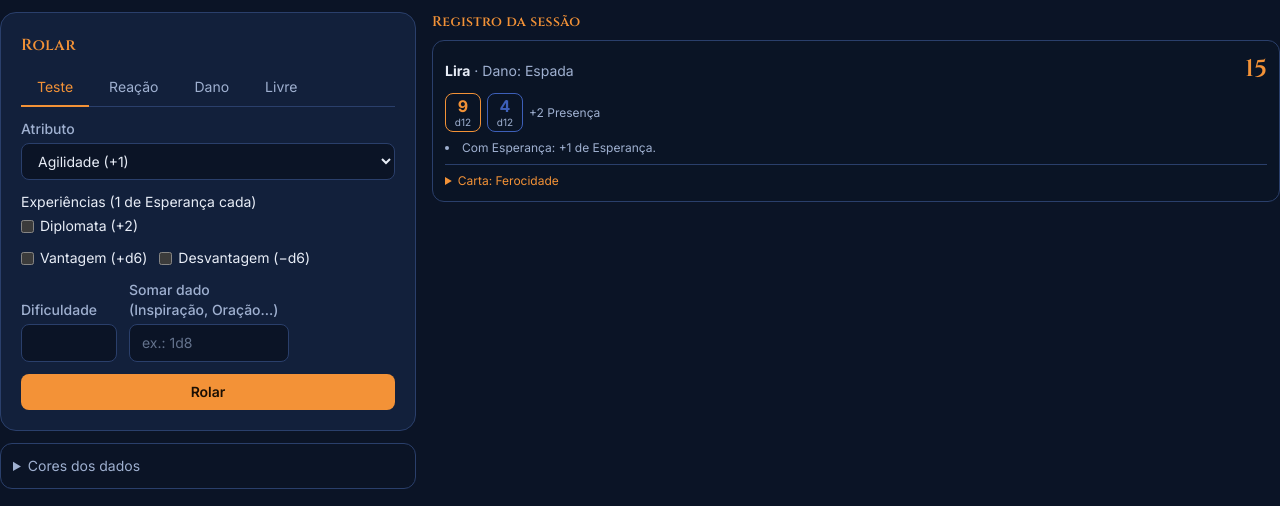
Test: Carta disparada pela rolagem › o registro oferece a carta e usa ligada àquela rolagem
This screenshot has width=1280, height=506.
Click the heading "Carta: Ferocidade". click: (508, 181)
box: [458,173,559,188]
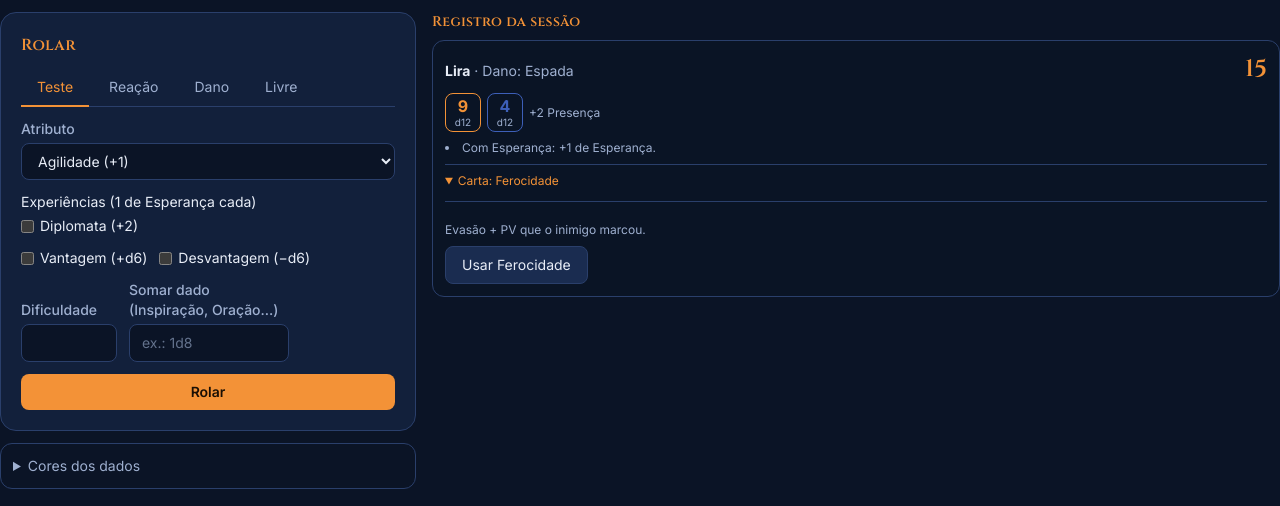
Click the button "Usar Ferocidade". click: (516, 265)
box: [445,246,588,284]
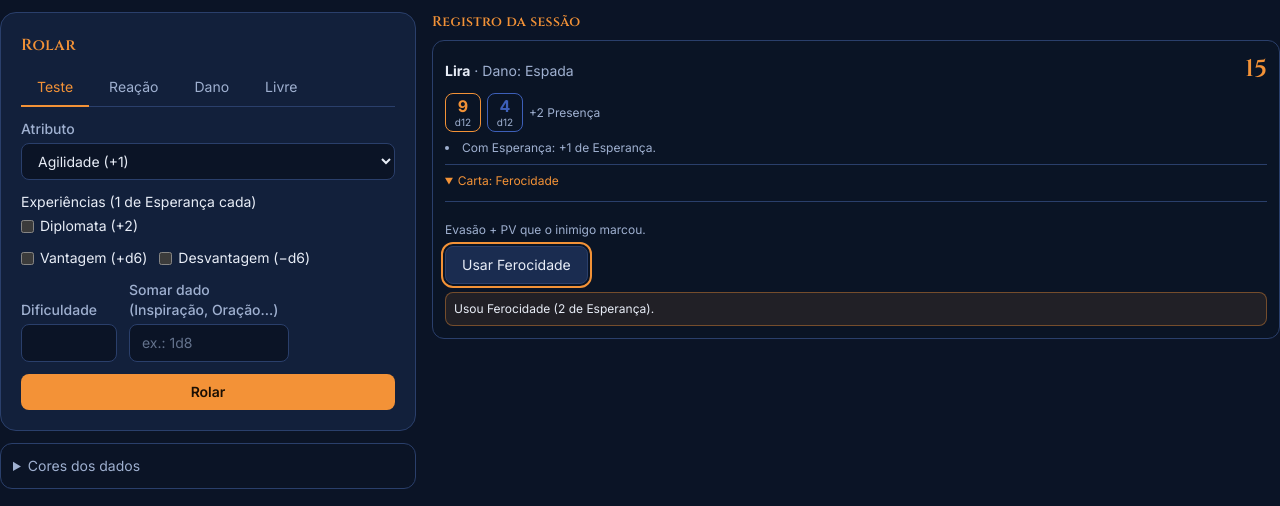
Expected: the text "Usou Ferocidade (2 de Esperança)." is shown, [445,292,1267,326]
